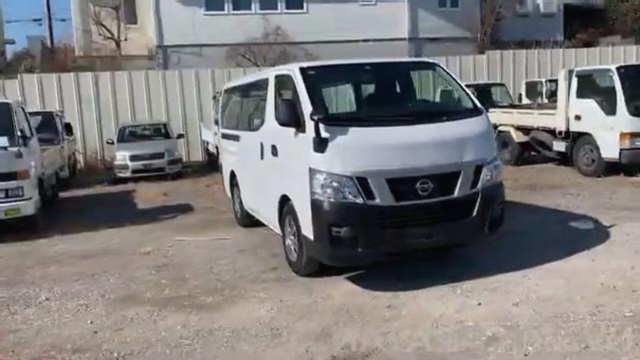van: (217, 57, 504, 270)
